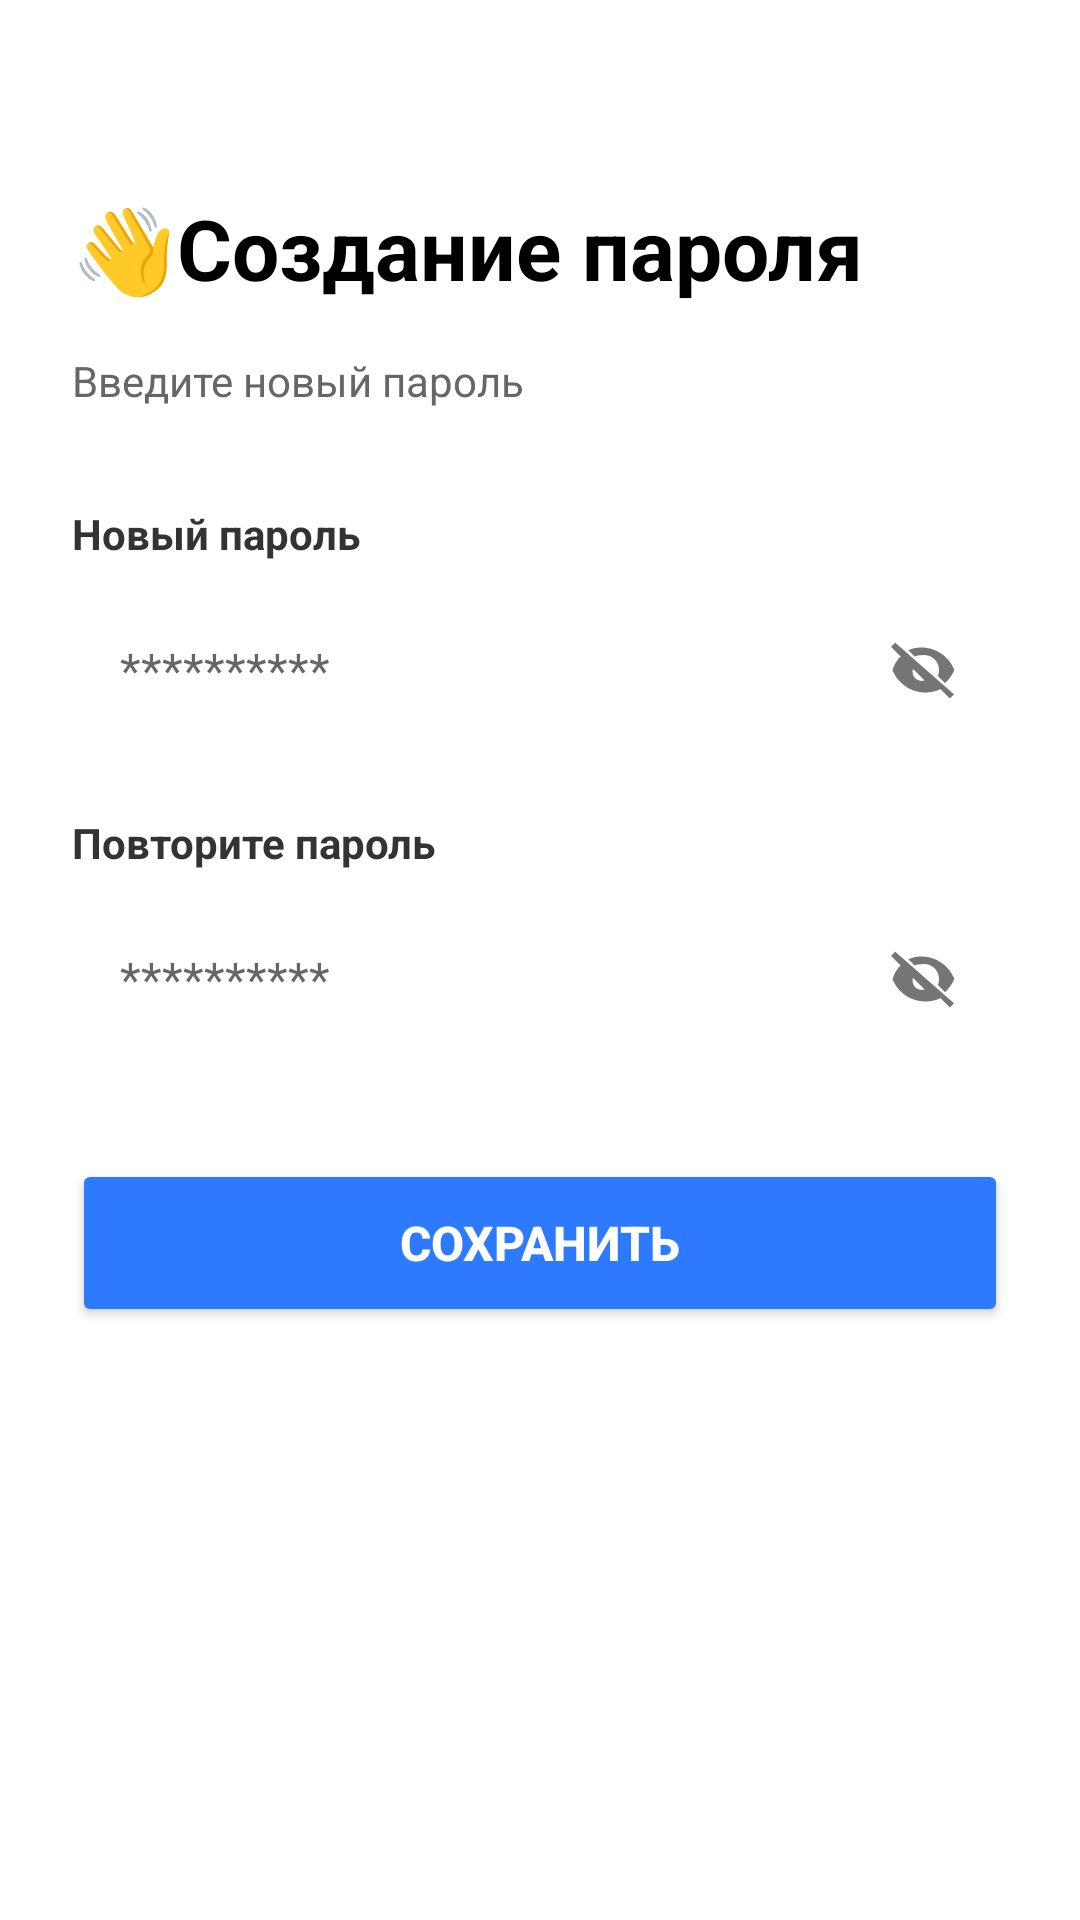

Icon click points for this 1080*1920 phone screenshot, format point (x, y):
eye close: point (922, 671), point (922, 980)
